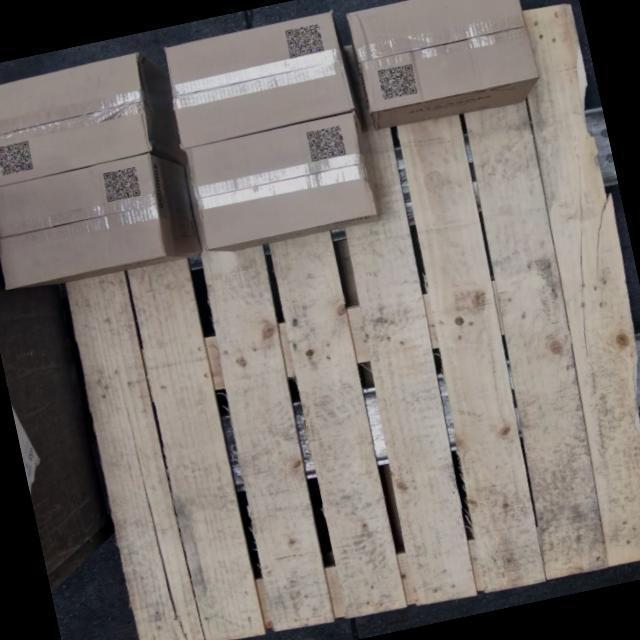box: (162, 12, 354, 147), (189, 112, 378, 248), (0, 152, 173, 288), (348, 0, 539, 112), (0, 52, 158, 185)
